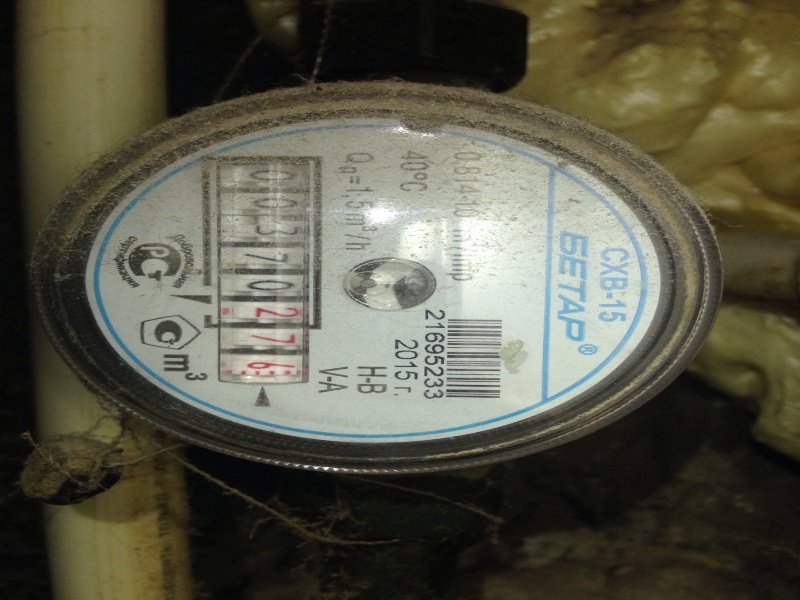meter: (218, 169, 321, 382)
